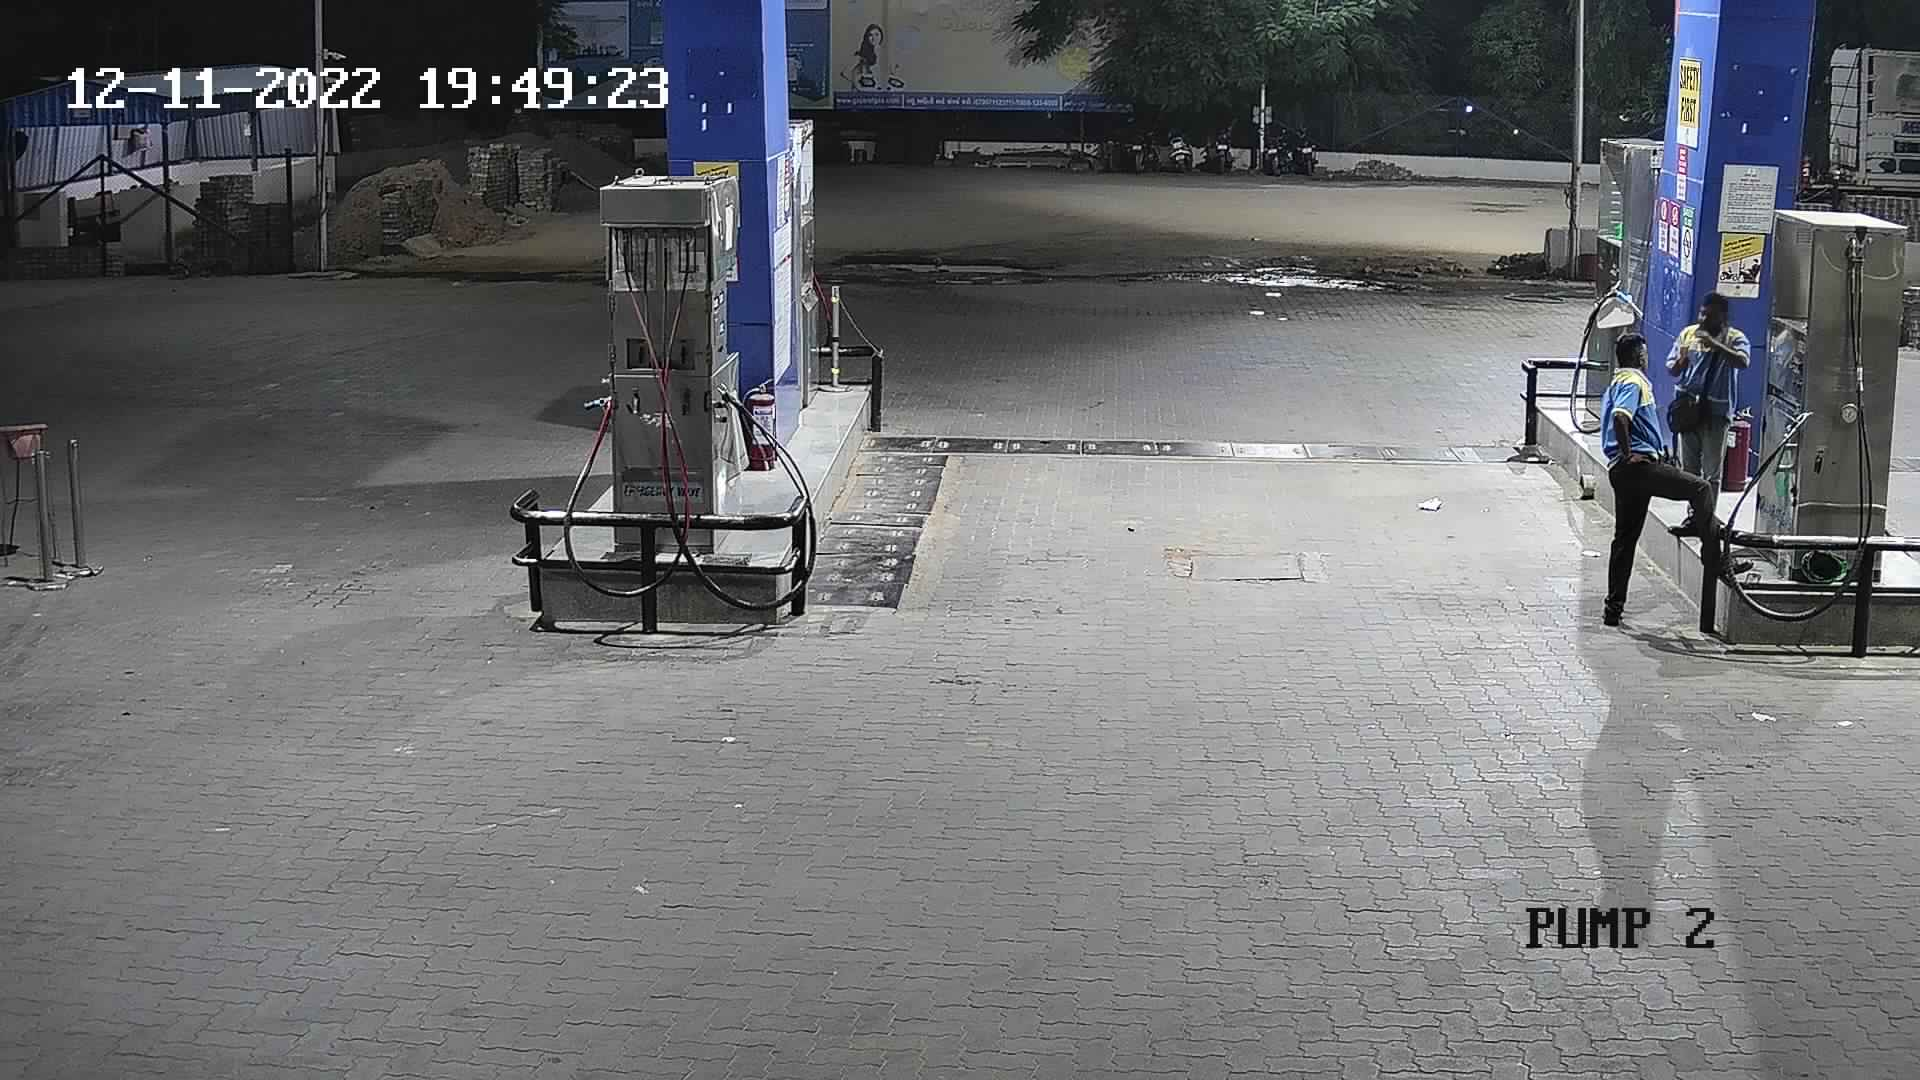Bike: (1150, 107, 1207, 173), (1113, 104, 1158, 185), (1200, 116, 1247, 173), (1255, 125, 1294, 179), (1288, 123, 1323, 175)
HMV: (1785, 38, 1917, 218)
Others: (1592, 324, 1716, 634), (1660, 286, 1753, 541)
